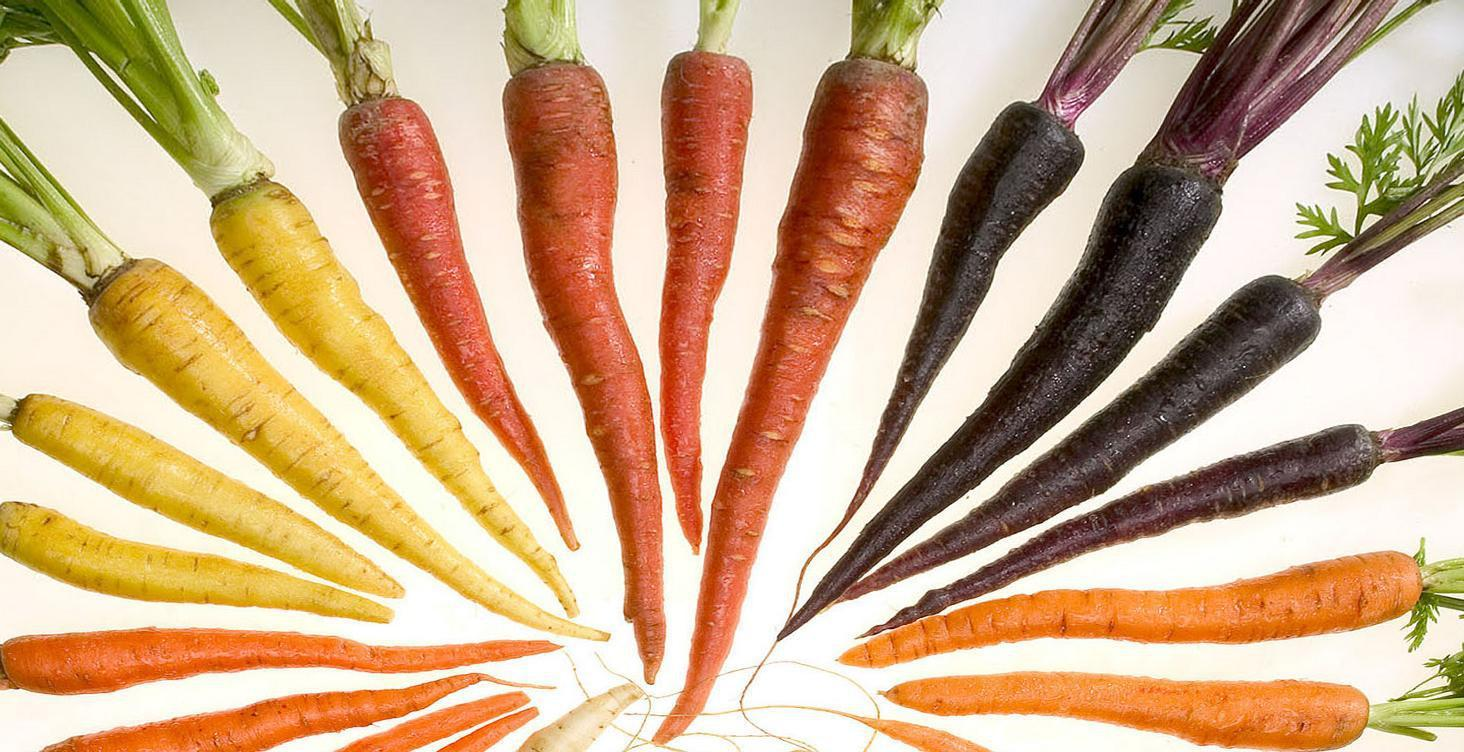carrot: (856, 578, 1464, 752), (4, 617, 543, 752)
